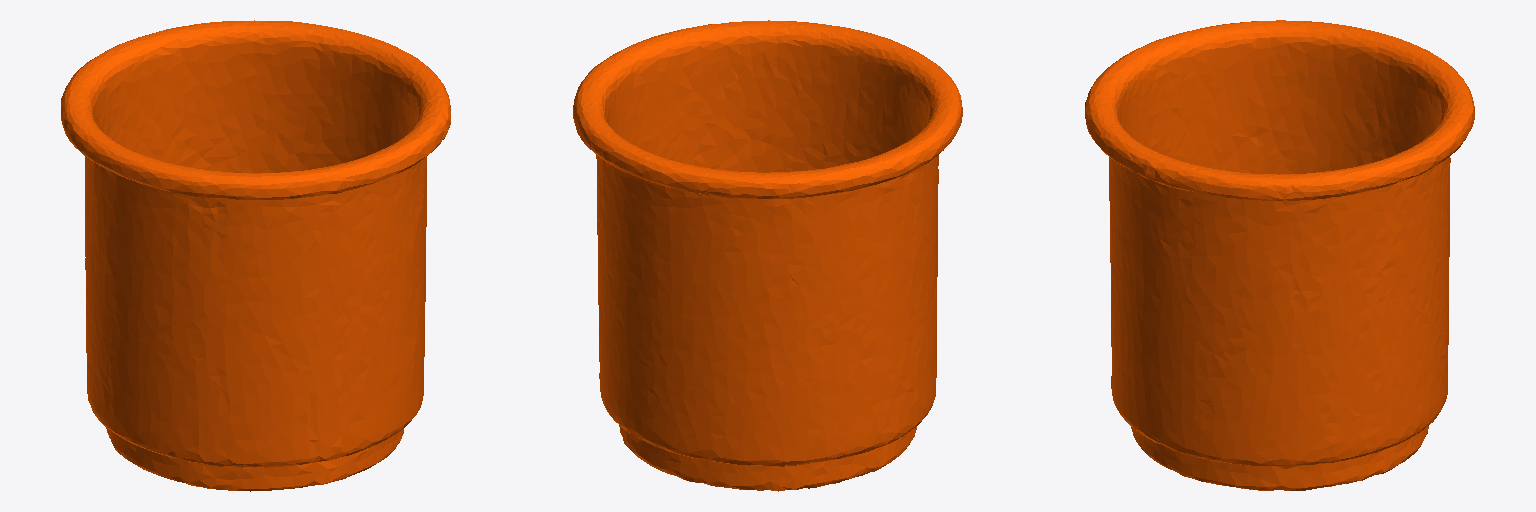
The robot description file, URDF, robot "065-e_cups":
<?xml version="1.0" ?>
<robot name="065-e_cups">
   <material name="obj_color">
      <color rgba="1.0 0.423529411765 0.0392156862745 1.0"/>
   </material>
   <link name="top">
      <inertial>
         <origin rpy="7.291184509935815e-05 7.525713832284661e-05 8.153476658877061e-05" xyz="0.00172239088993535 0.004735390184999175 -0.001460370693652229"/>
         <mass value="0.08883566233060415"/>
         <inertia ixx="7.586880205784803e-05" ixy="9.570673396126925e-07" ixz="1.697736479869377e-06" iyy="7.608508501952236e-05" iyz="3.875508909270541e-06" izz="7.774986293360495e-05"/>
      </inertial>
      <visual>
         <origin rpy="0 0 0" xyz="0 0 0"/>
         <geometry>
            <mesh filename="top_watertight_tiny.stl" scale="1 1 1"/>
         </geometry>
         <material name="obj_color"/>
      </visual>
      <collision>
         <origin rpy="0 0 0" xyz="0 0 0"/>
         <geometry>
            <mesh filename="top_watertight_tiny.obj" scale="1 1 1"/>
         </geometry>
      </collision>
   </link>
   <link name="bottom">
      <inertial>
         <origin rpy="1.633333333199431e-08 1.633333333199431e-08 1.633333333362855e-08" xyz="0.3464080000000008 0.3464080000000008 0.3464080000000008"/>
         <mass value="0.0009800000000000017"/>
         <inertia ixx="1.633333333253906e-08" ixy="5.447480642029219e-19" ixz="5.447480642029219e-19" iyy="1.633333333253906e-08" iyz="5.447480642029219e-19" izz="1.633333333253906e-08"/>
      </inertial>
      <visual>
         <origin rpy="0 0 0" xyz="0 0 0"/>
         <geometry>
            <mesh filename="bottom_watertight_tiny.stl" scale="1 1 1"/>
         </geometry>
         <material name="obj_color"/>
      </visual>
   </link>
   <joint name="rotation" type="revolute">
      <origin xyz="0 0 0"/>
      <axis xyz="0 0 -1"/>
      <parent link="bottom"/>
      <child link="top"/>
      <dynamics damping="1.0" friction="1.0"/>
      <limit effort="0.1" velocity="0.1" lower="0" upper="0.001"/>
   </joint>
</robot>

--- What the picture shows (computed from the rendered views, not written in the file) ---
Views: 3 orthographic renders of the robot side by side, from view 1: azimuth 30°, elevation 25°; view 2: azimuth 150°, elevation 25°; view 3: azimuth 270°, elevation 25°.
Robot: 065-e_cups — 2 links, 1 joints (1 revolute); root link bottom; default pose: every joint at zero.
Links seen in each view (by area): view 1: top; view 2: top; view 3: top.
Link boxes in pixels (box(x1,y1,x2,y2)): top: box(61, 20, 450, 491); top: box(573, 20, 962, 491); top: box(1085, 20, 1474, 490).
Bounding box of the posed robot: 0.0755 × 0.0753 × 0.0708 m (x, y, z).
1 mesh visuals loaded from 2 distinct referenced files (1 binary STL); not drawn: 1 (reference not matched to a file when rendering).
